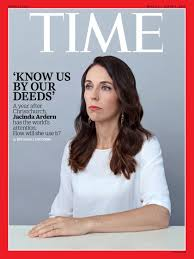middle_eastern_Female: (80, 56, 125, 126)
